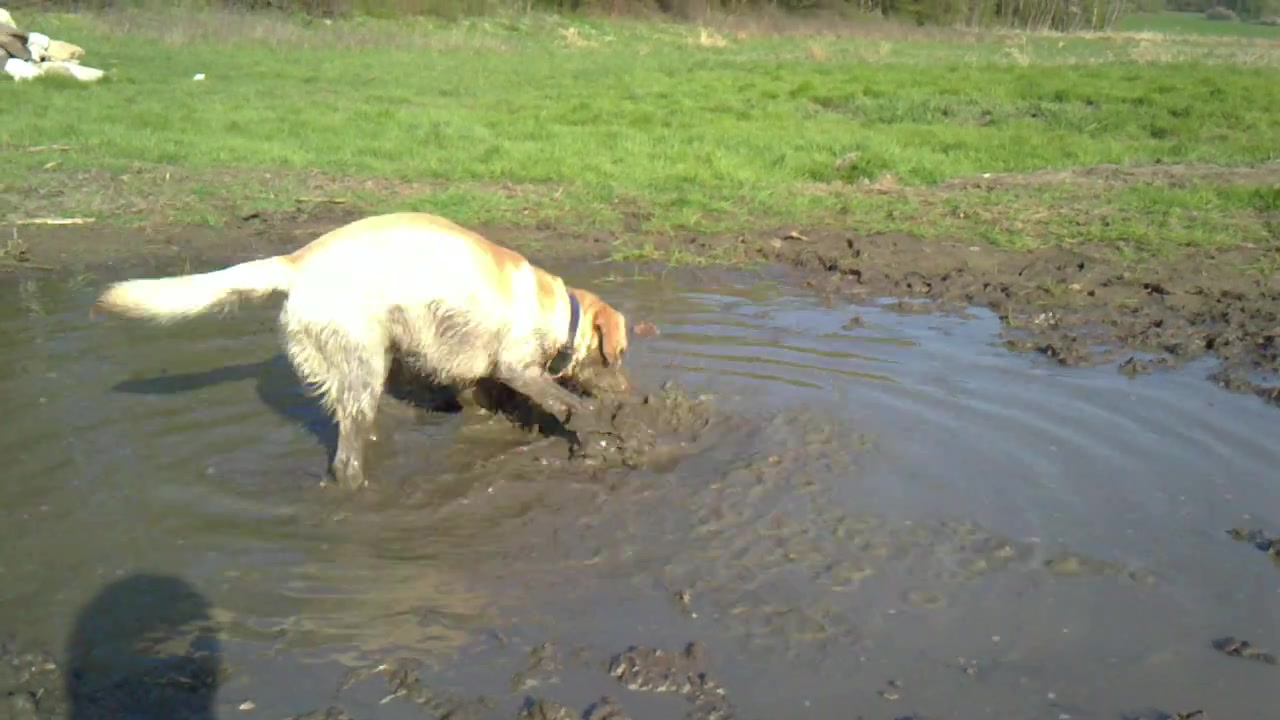dog: (92, 211, 632, 493)
